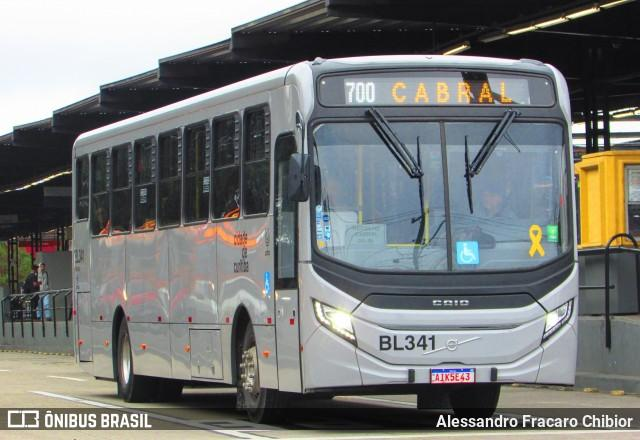CABRAL: (385, 76, 516, 106)
